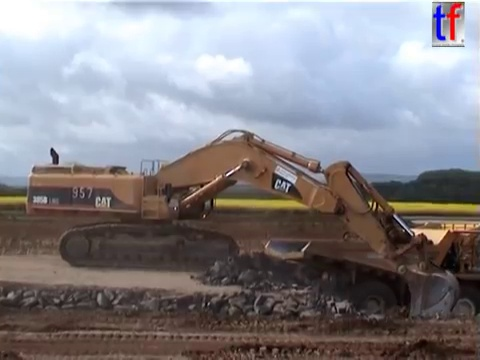excavator: (23, 126, 463, 330)
truck: (260, 217, 480, 336)
